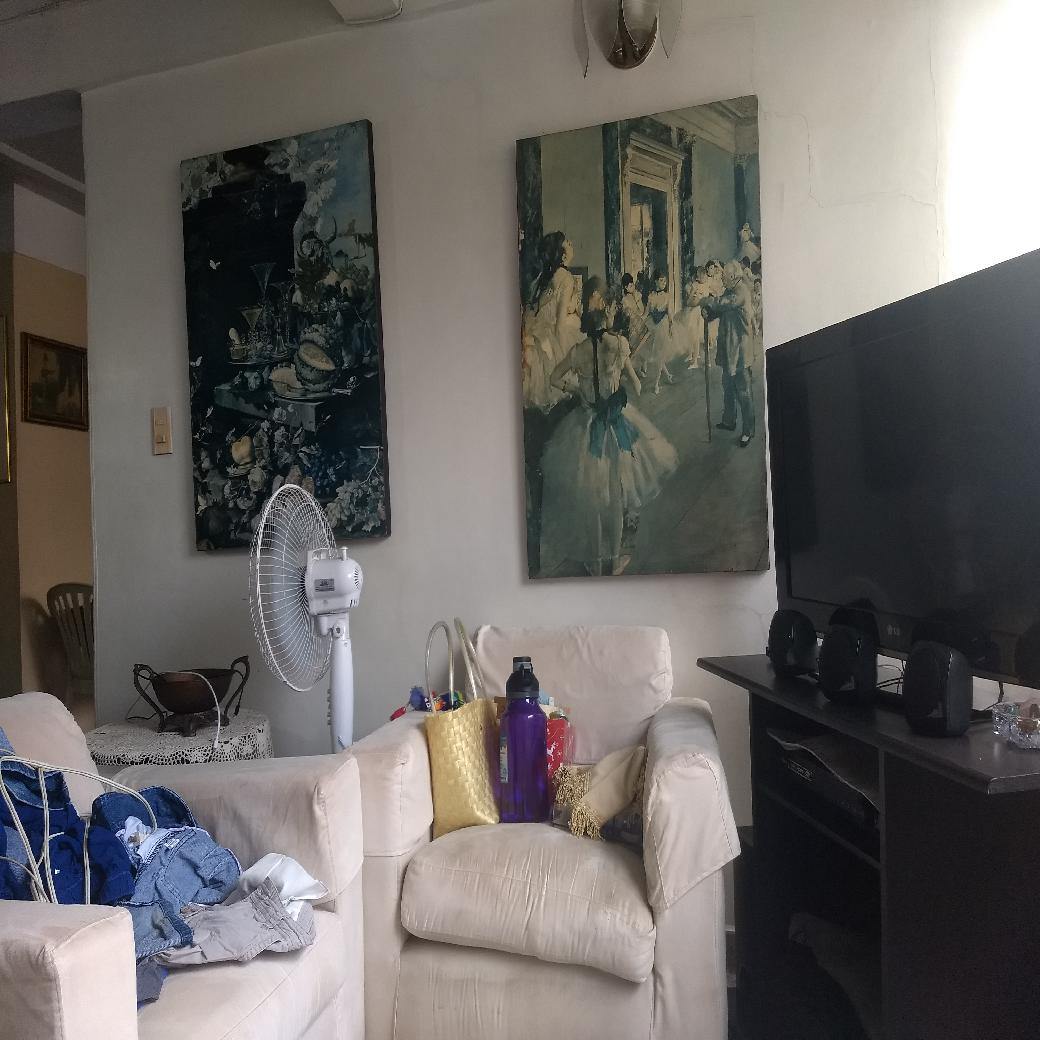tv: (751, 250, 1040, 683)
ventilador: (243, 475, 363, 708)
